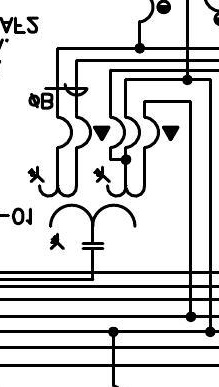115_cvt_3p: (27, 165, 147, 250)
